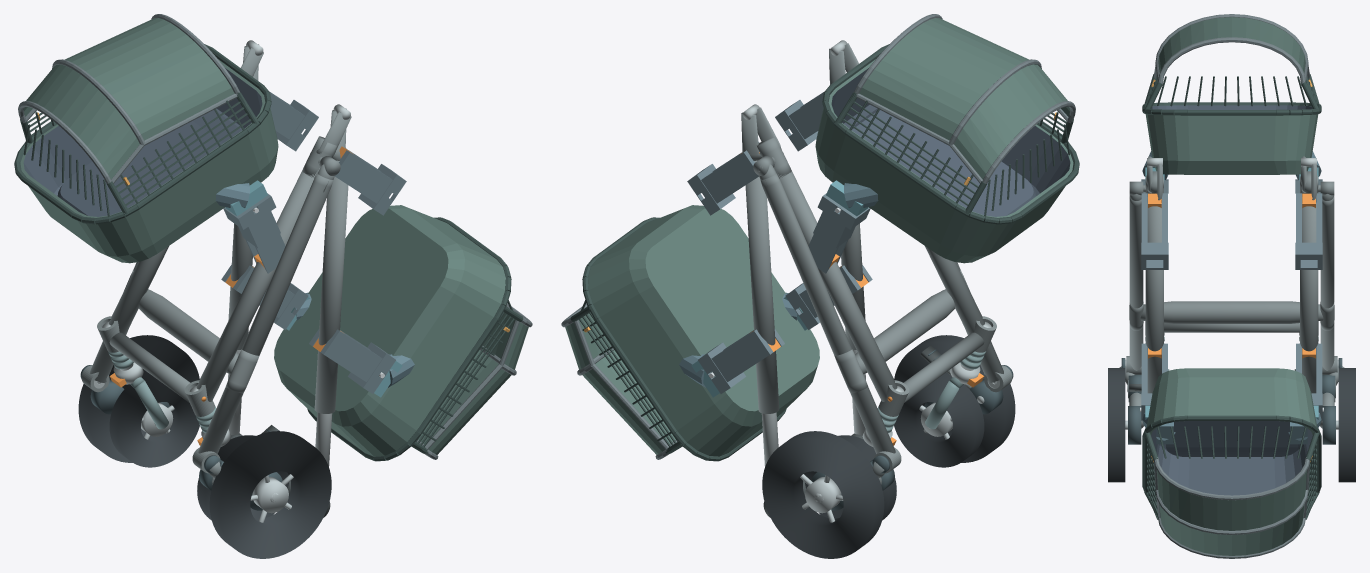
Rendered from D01_w380_state3_wheel_S.glb.
3 renders of one model, left to right at view 1: azimuth 30°, elevation 25°; view 2: azimuth 150°, elevation 25°; view 3: azimuth 270°, elevation 25°, orthographic. The views are drawn at different scales.
Parts seen in each view (by area): view 1: D01_Lower, D01_Upper, RL_tire.013, V46_rear_leg_-1, FR_tire.013, main_upper_-1.001, main_lower_-1.001, RR_tire.013, Universal_Cabin_Receiver_H_-1, V46_rearbar, Universal_Cabin_Receiver_M_-1, Universal_Cabin_Receiver_L_-1 (+14 smaller); view 2: D01_Lower, D01_Upper, RR_tire.013, V46_rear_leg_1, FL_tire.013, main_upper_1.001, main_lower_1.001, RL_tire.013, Universal_Cabin_Receiver_H_1, V46_rearbar, Universal_Cabin_Receiver_M_1, Universal_Cabin_Receiver_L_1 (+15 smaller); view 3: D01_Upper, D01_Lower, V46_rearbar, main_upper_1.001, main_upper_-1.001, RL_tire.013, RR_tire.013, V46_rear_leg_1, V46_rear_leg_-1, Universal_Cabin_Receiver_M_-1, Universal_Cabin_Receiver_M_1, front_fixed_round_tube.012 (+7 smaller).
Boxes of the visible parts, box(x1,y1,x2,y2) form: D01_Lower: box(14, 14, 278, 263); D01_Upper: box(274, 205, 532, 461); RL_tire.013: box(209, 431, 331, 558); V46_rear_leg_-1: box(198, 174, 333, 453); FR_tire.013: box(109, 373, 199, 467); main_upper_-1.001: box(314, 160, 348, 413); main_lower_-1.001: box(196, 168, 319, 401); RR_tire.013: box(78, 335, 199, 462); Universal_Cabin_Receiver_H_-1: box(309, 329, 395, 393); V46_rearbar: box(139, 289, 238, 374); Universal_Cabin_Receiver_M_-1: box(335, 149, 406, 215); Universal_Cabin_Receiver_L_-1: box(223, 193, 285, 273); D01_Lower: box(815, 14, 1079, 263); D01_Upper: box(561, 205, 819, 461); RR_tire.013: box(762, 431, 884, 558); V46_rear_leg_1: box(760, 174, 895, 453); FL_tire.013: box(894, 373, 984, 467); main_upper_1.001: box(745, 160, 779, 413); main_lower_1.001: box(774, 168, 897, 401); RL_tire.013: box(894, 335, 1015, 462); Universal_Cabin_Receiver_H_1: box(698, 329, 784, 393); V46_rearbar: box(855, 289, 954, 374); Universal_Cabin_Receiver_M_1: box(687, 141, 759, 215); Universal_Cabin_Receiver_L_1: box(808, 193, 870, 273); D01_Upper: box(1142, 368, 1321, 558); D01_Lower: box(1142, 14, 1321, 174); V46_rearbar: box(1140, 301, 1323, 323); main_upper_1.001: box(1300, 203, 1318, 393); main_upper_-1.001: box(1145, 203, 1163, 393); RL_tire.013: box(1108, 368, 1125, 482); RR_tire.013: box(1338, 368, 1355, 482); V46_rear_leg_1: box(1320, 196, 1334, 370); V46_rear_leg_-1: box(1129, 196, 1143, 370); Universal_Cabin_Receiver_M_-1: box(1141, 193, 1168, 269); Universal_Cabin_Receiver_M_1: box(1295, 193, 1322, 269); front_fixed_round_tube.012: box(1164, 323, 1299, 332).
Size of the model in its own units: 0.8263 by 0.8284 by 0.434.
